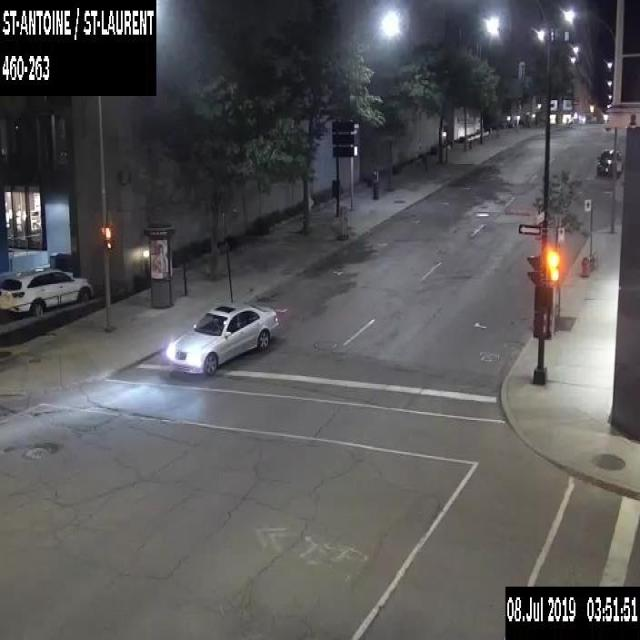vehicle: (165, 300, 278, 374), (0, 267, 93, 316), (595, 147, 623, 176)
